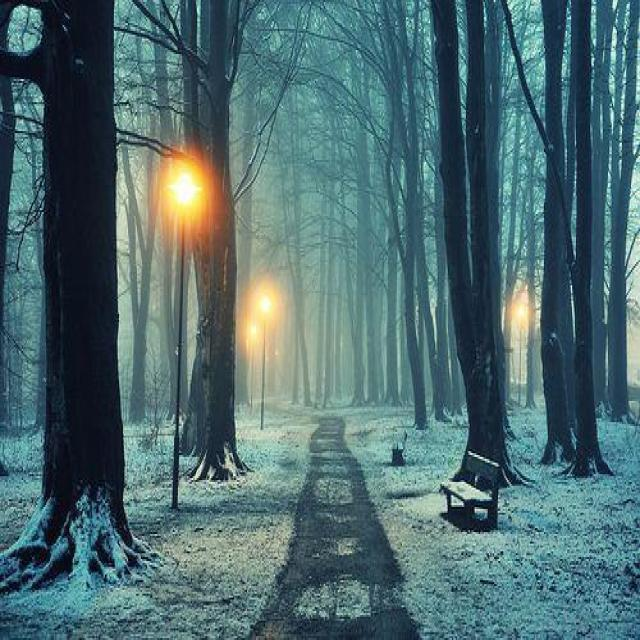other: (145, 136, 223, 229), (234, 266, 282, 350), (504, 286, 535, 340)
